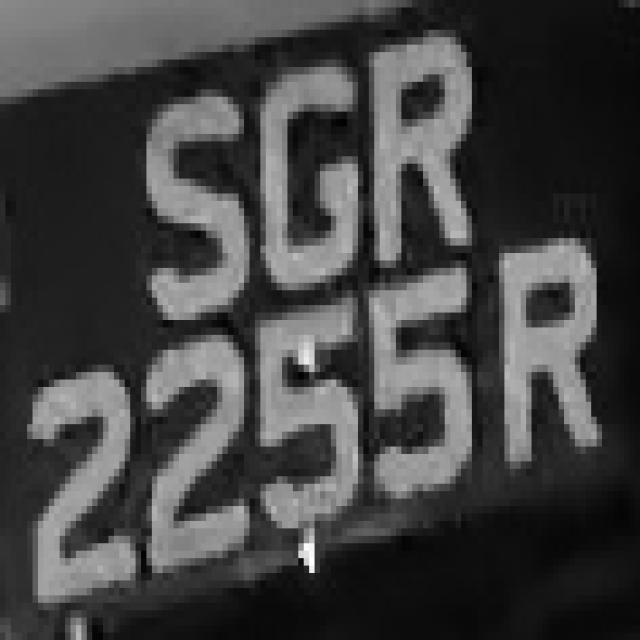2: (125, 328, 255, 580), (22, 350, 146, 610)
5: (352, 261, 472, 528), (249, 283, 358, 513)
G: (244, 60, 363, 305)
R: (478, 216, 618, 461), (358, 8, 477, 246)
S: (109, 82, 244, 320)
